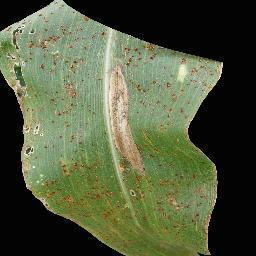Corn_Common_Rust: (1, 1, 239, 256)
